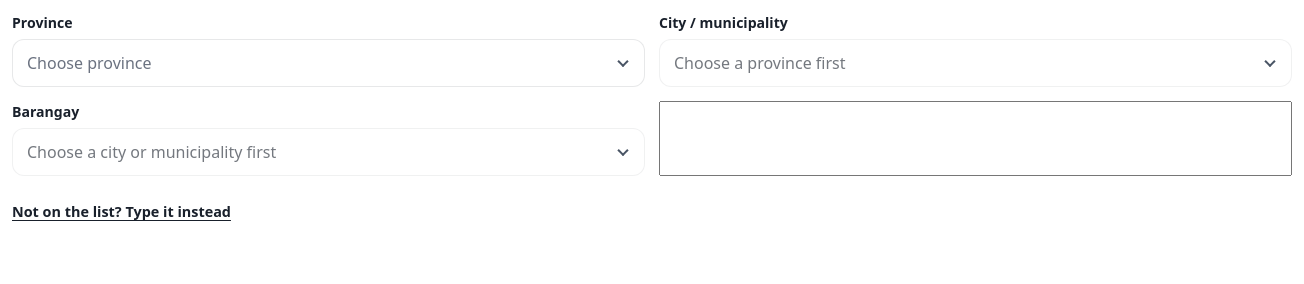
PlaceFields when the customer types › turns into text boxes when a list cannot be loaded, and can try the lists again
This screenshot has width=1304, height=284.
Select "Cebu" in the dropdown labelled "Province" at (328, 63), box left=12, top=39, right=645, bottom=87
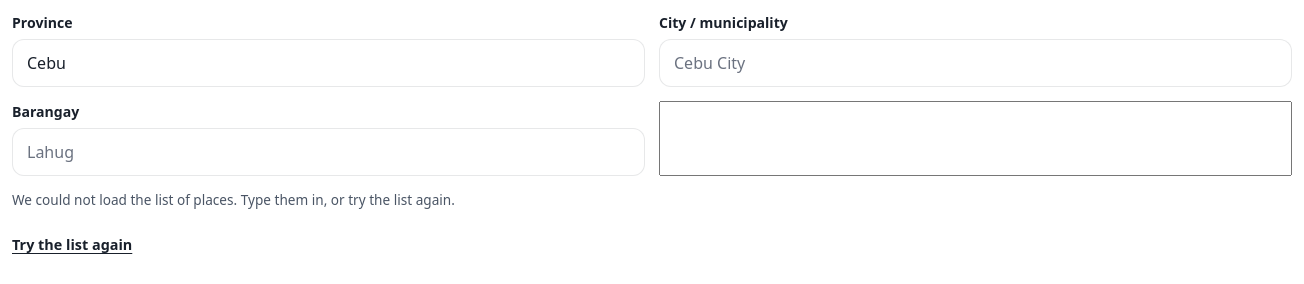
Expected: the text "We could not load the list of places. Type them in, or try the list again." is shown, left=12, top=190, right=455, bottom=209
Expected: the field labelled "Province" holds "Cebu", left=12, top=39, right=645, bottom=87
Click the button "Try the list again".
click(72, 245)  # box left=12, top=223, right=132, bottom=267
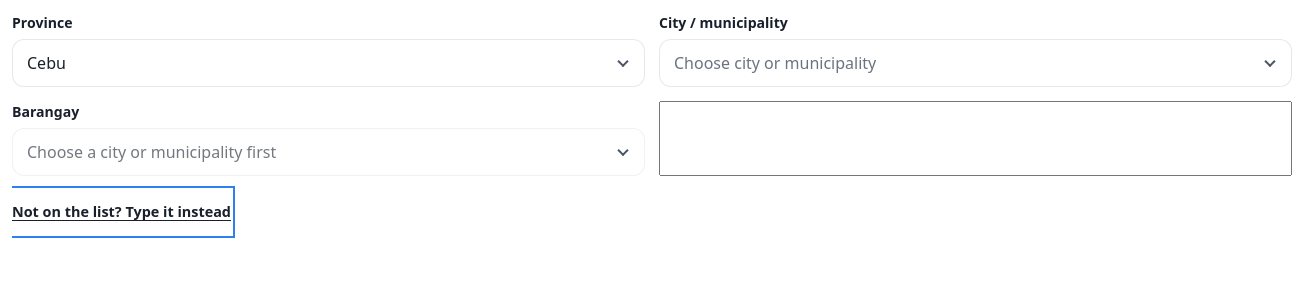
Expected: the dropdown labelled "Province" shows "Cebu", left=12, top=39, right=645, bottom=87
